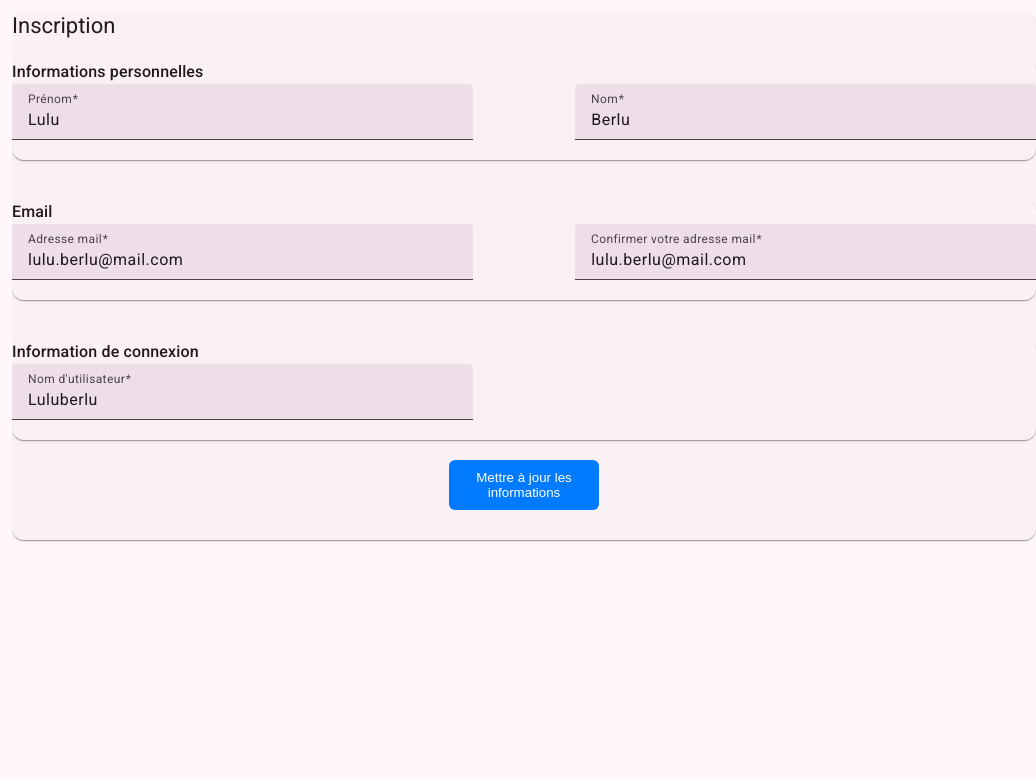
Test: Sign-InComponent › Formulaire de mise à jour › l'adresse email doit être valide
The width and height of the screenshot is (1036, 780).
Replace the text in the field labelled "Adresse mail" with "invalid-email" at (242, 260), box [28,248,457,272]
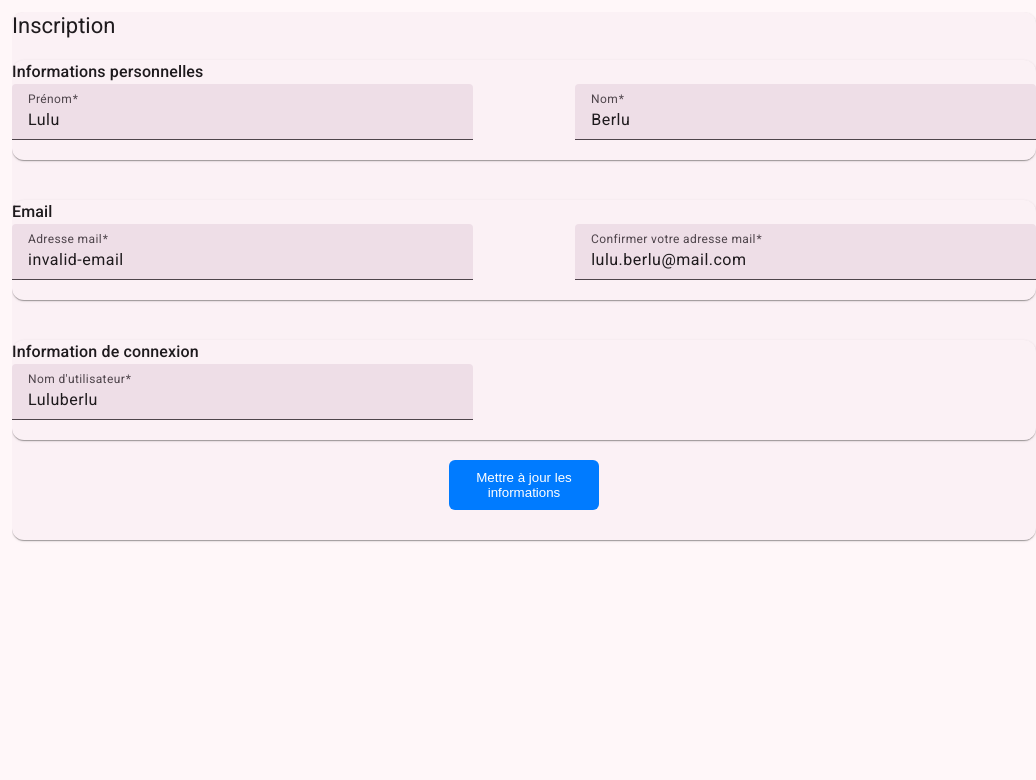
Leave the field labelled "Adresse mail", box [28,248,457,272]
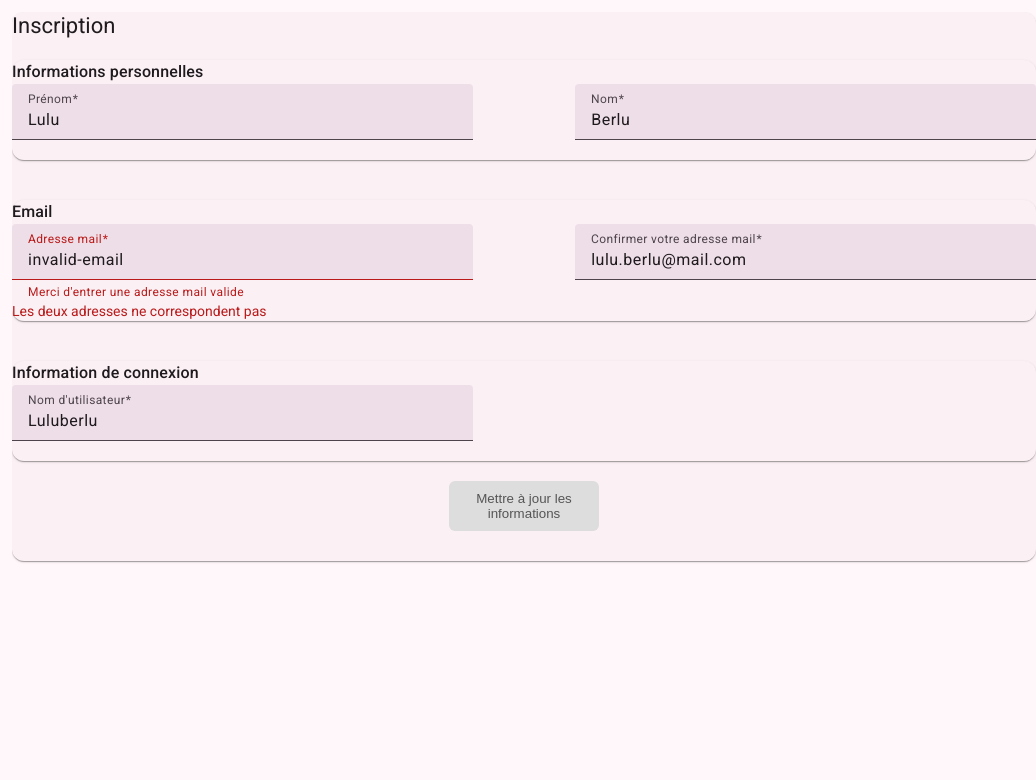
Check: the text "Merci d'entrer une adresse mail valide" is shown, box [28,285,244,299]
